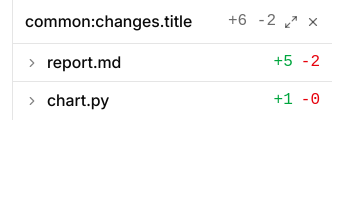
Scenario: CoworkDiffPanel › attributes a subagent’s edit to it
The image size is (349, 222).
Click the text "chart.py".
click(78, 100)  # box top-left (47, 90), bottom-right (109, 110)
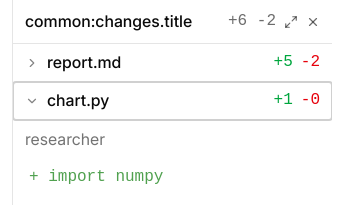
Expected: the text "researcher" is shown, top-left (25, 129), bottom-right (105, 149)
